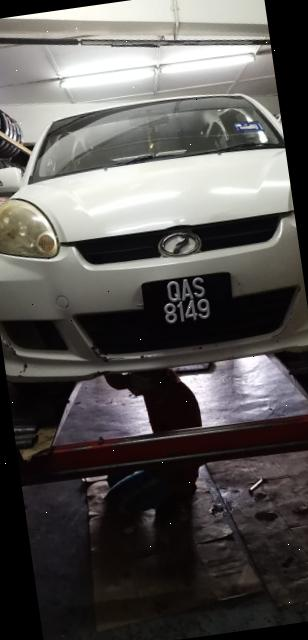License_Plate: (136, 264, 235, 332)
car: (1, 66, 308, 401)
